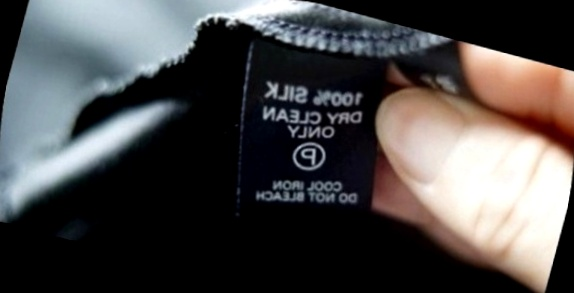dry_clean_any_solvent_except_trichloroethylene: (285, 133, 332, 178)
